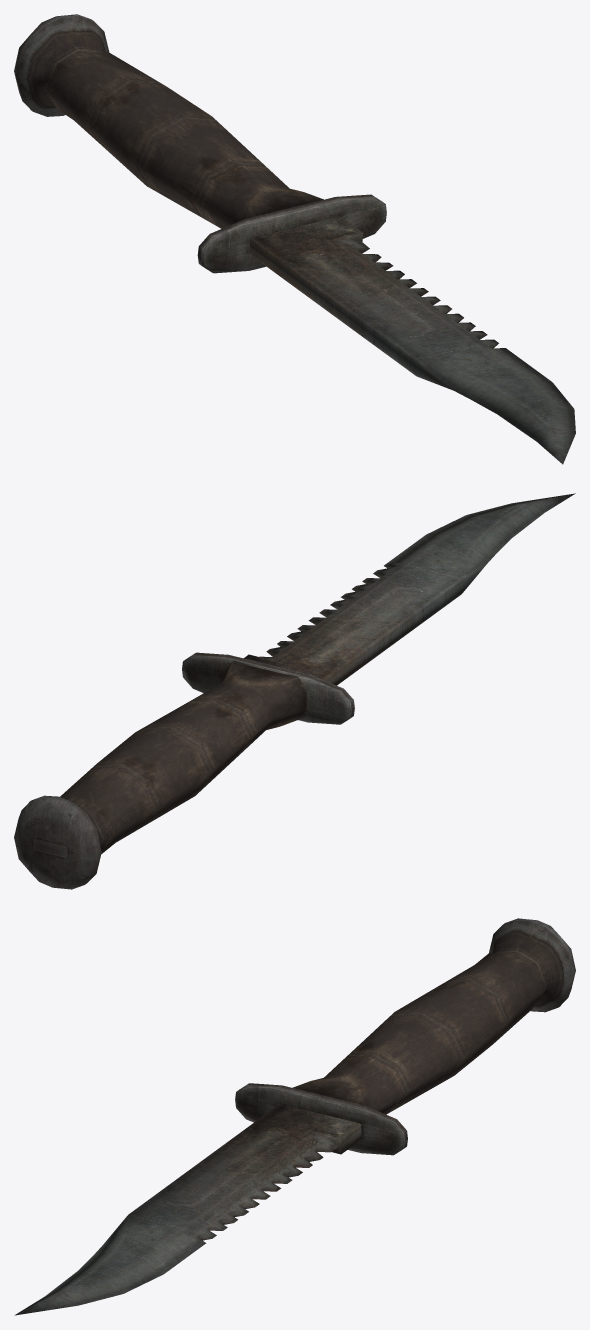
File: knife.FBX
3 renders of one model, top to bottom at view 1: azimuth 30°, elevation 25°; view 2: azimuth 150°, elevation 25°; view 3: azimuth 330°, elevation 25°, orthographic. The views are drawn at different scales.
Parts seen in each view (by area): view 1: Knife:0, Serration:0; view 2: Knife:0, Serration:0; view 3: Knife:0, Serration:0.
Part boxes in pixels (x1=…): Knife:0: x1=14, y1=14, x2=386, y2=273; Serration:0: x1=250, y1=216, x2=575, y2=464; Knife:0: x1=14, y1=652, x2=354, y2=889; Serration:0: x1=244, y1=493, x2=575, y2=685; Knife:0: x1=235, y1=918, x2=575, y2=1155; Serration:0: x1=14, y1=1104, x2=361, y2=1315.
Bounding box in the file's own units: 5.2 × 2.66 × 26.33.
